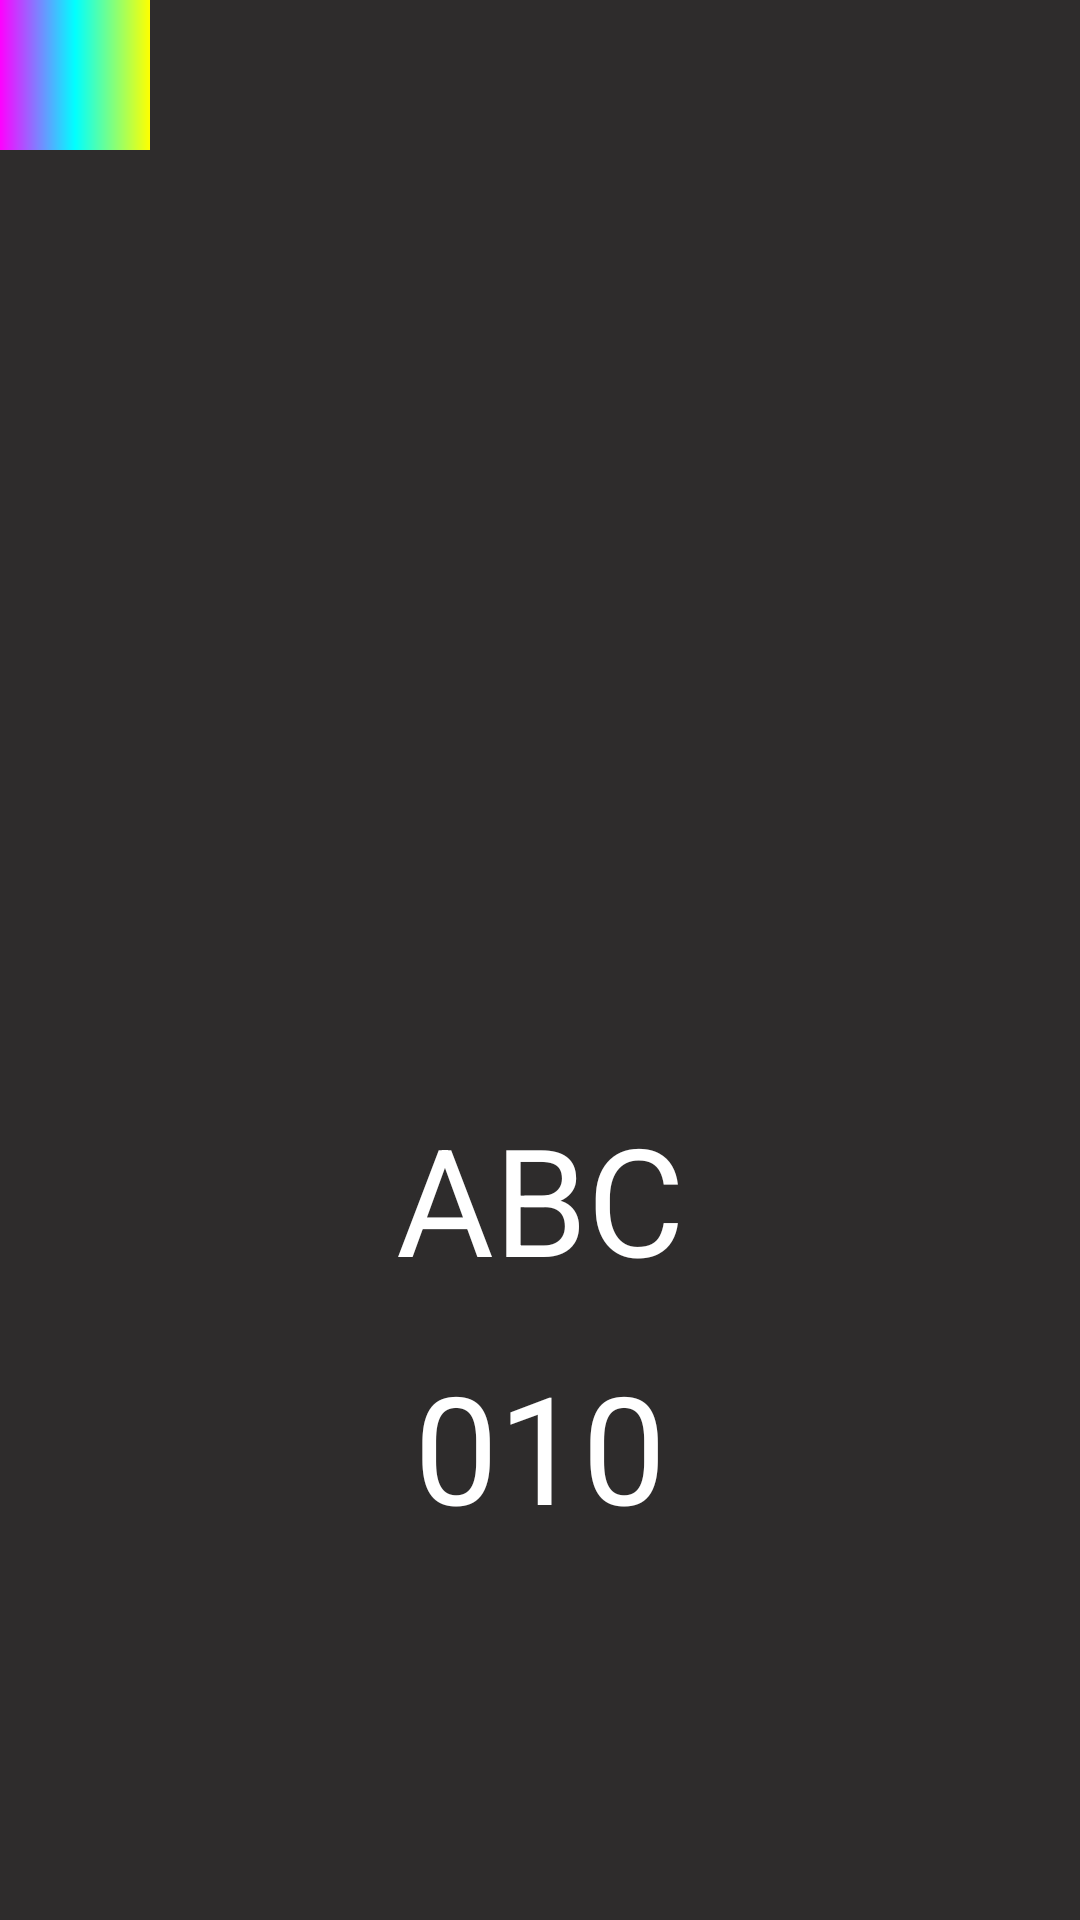

Where to tap for icons on this 1080×1920 app screen, as [x,y]:
grad: [75,75]
